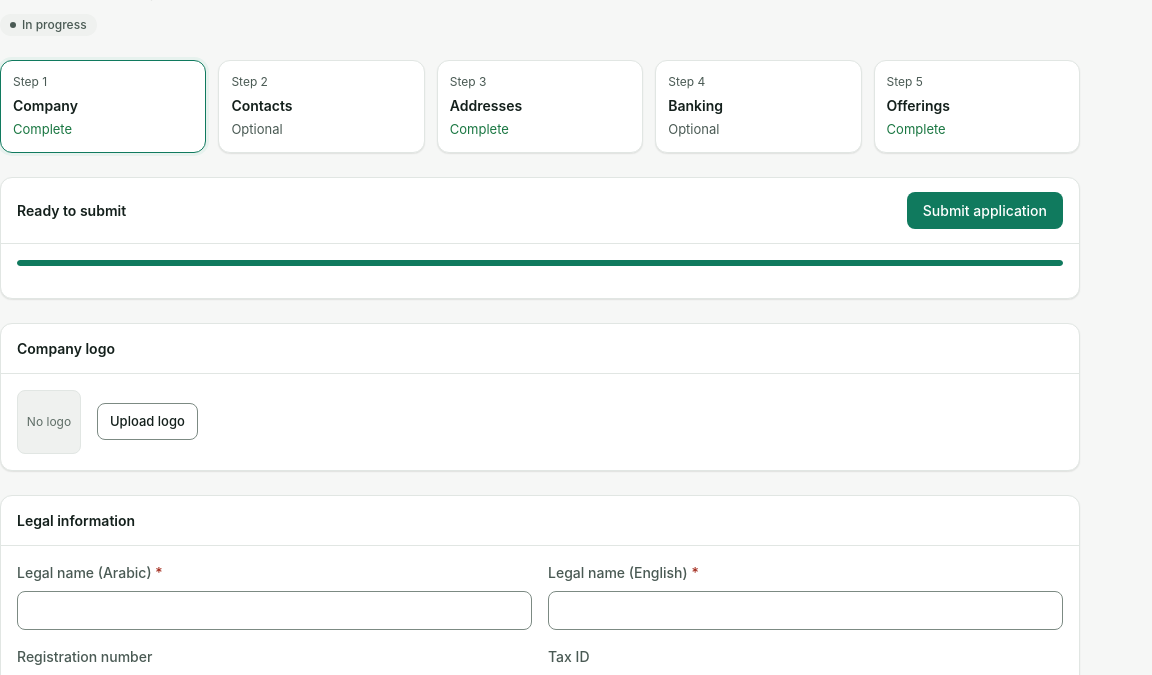
Test: required-vs-missing document chips › escalates only the documents the server named, after a failed submit
The image size is (1152, 675).
Click the button "Submit application" at coordinates (985, 210), box [907,192,1063,228]
(page scrolled)
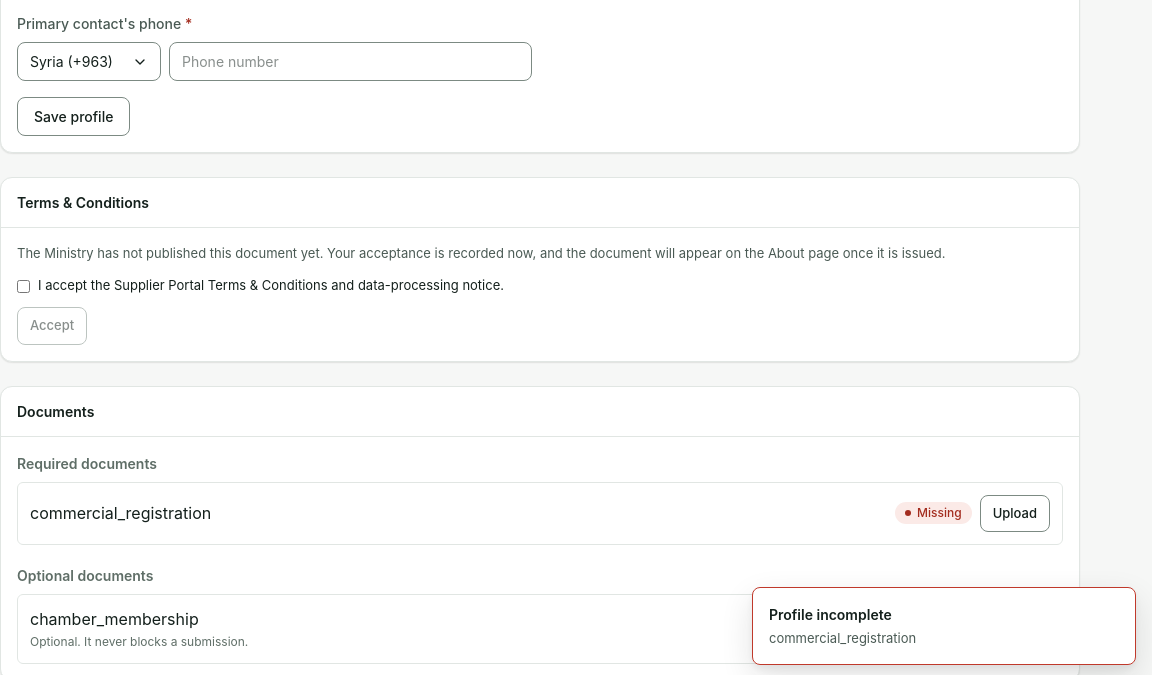
Check: the text "Missing" is shown, box [895,502,972,524]
